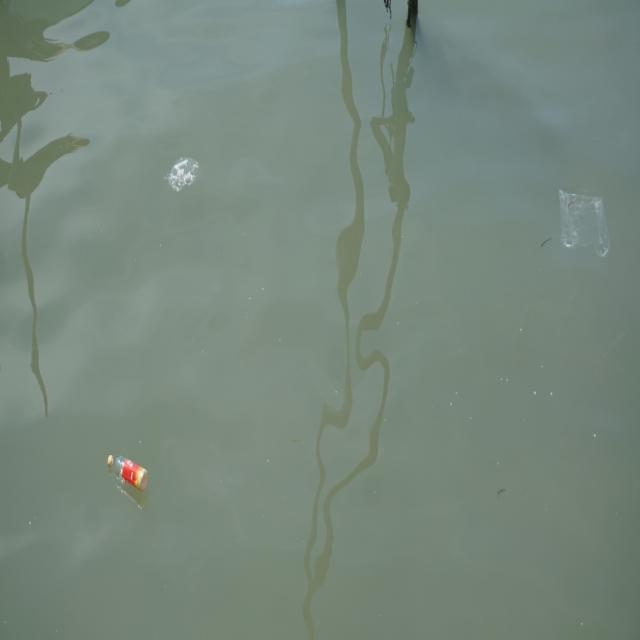Botol Plastik: (106, 449, 153, 502)
Kantong Plastik: (556, 183, 615, 265), (168, 156, 201, 194)
